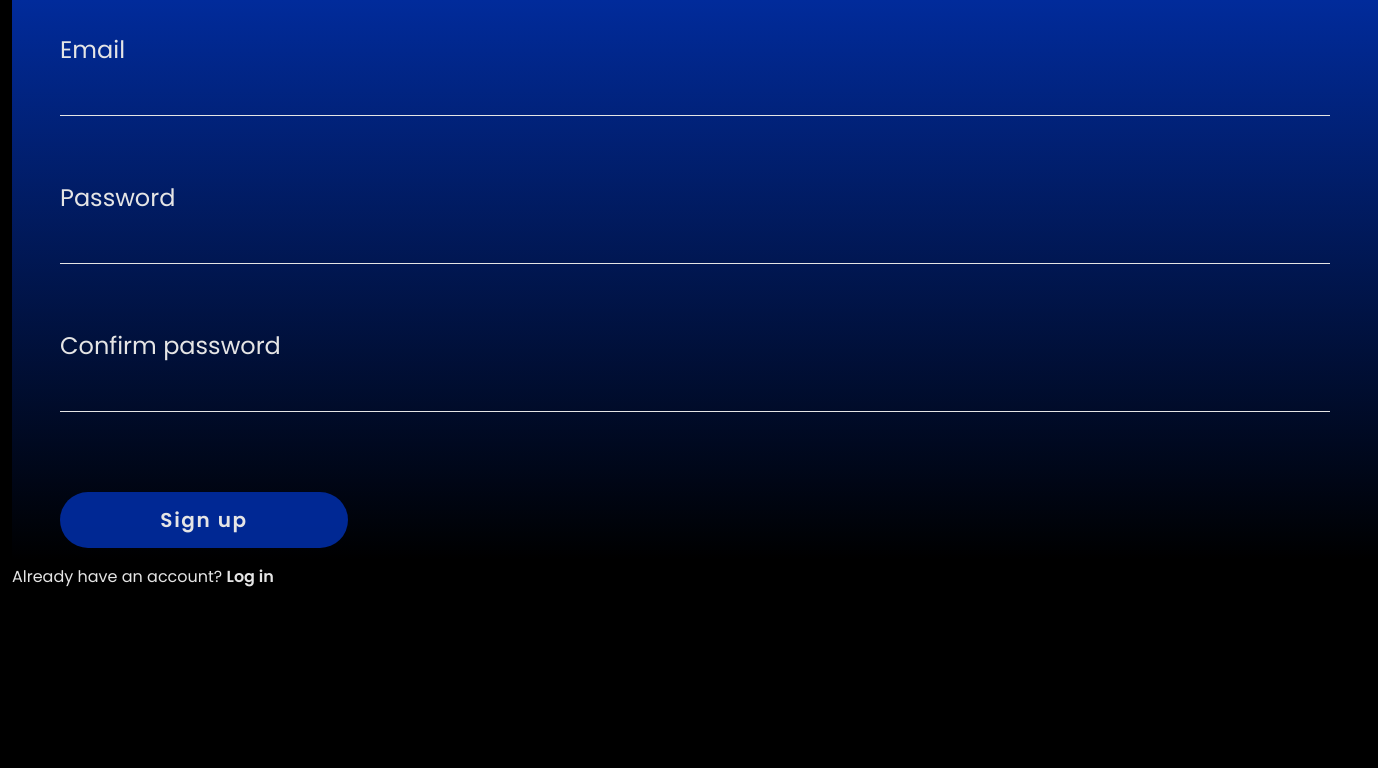
Test case: Given a register form, › when the user tries to register with a valid email and passwords, it should show a related message
The image size is (1378, 768).
Type "example2@email.com" into the field labelled "Email" at point(695, 100), box x1=60 y1=83 x2=1330 y2=116
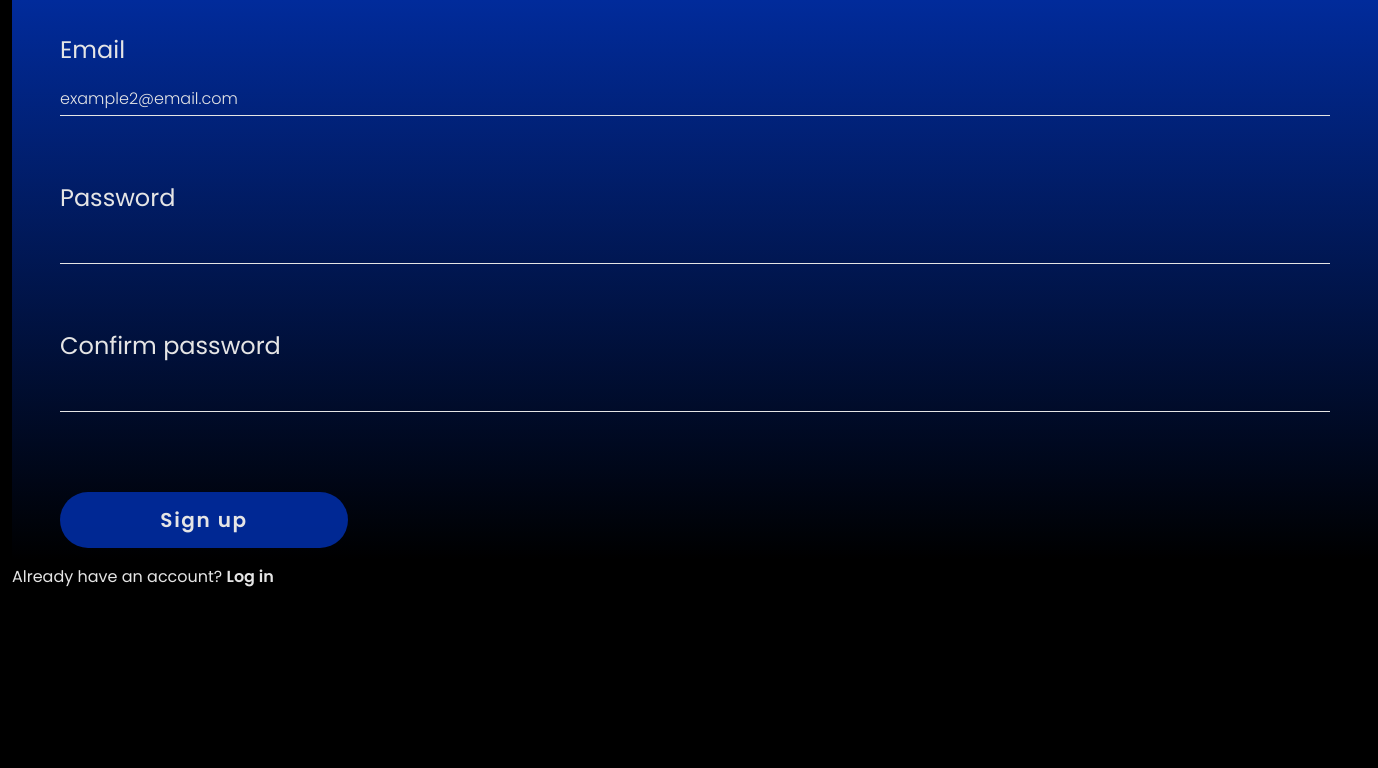
Type "password" into the password field labelled "Password" at point(695, 248), box x1=60 y1=231 x2=1330 y2=264
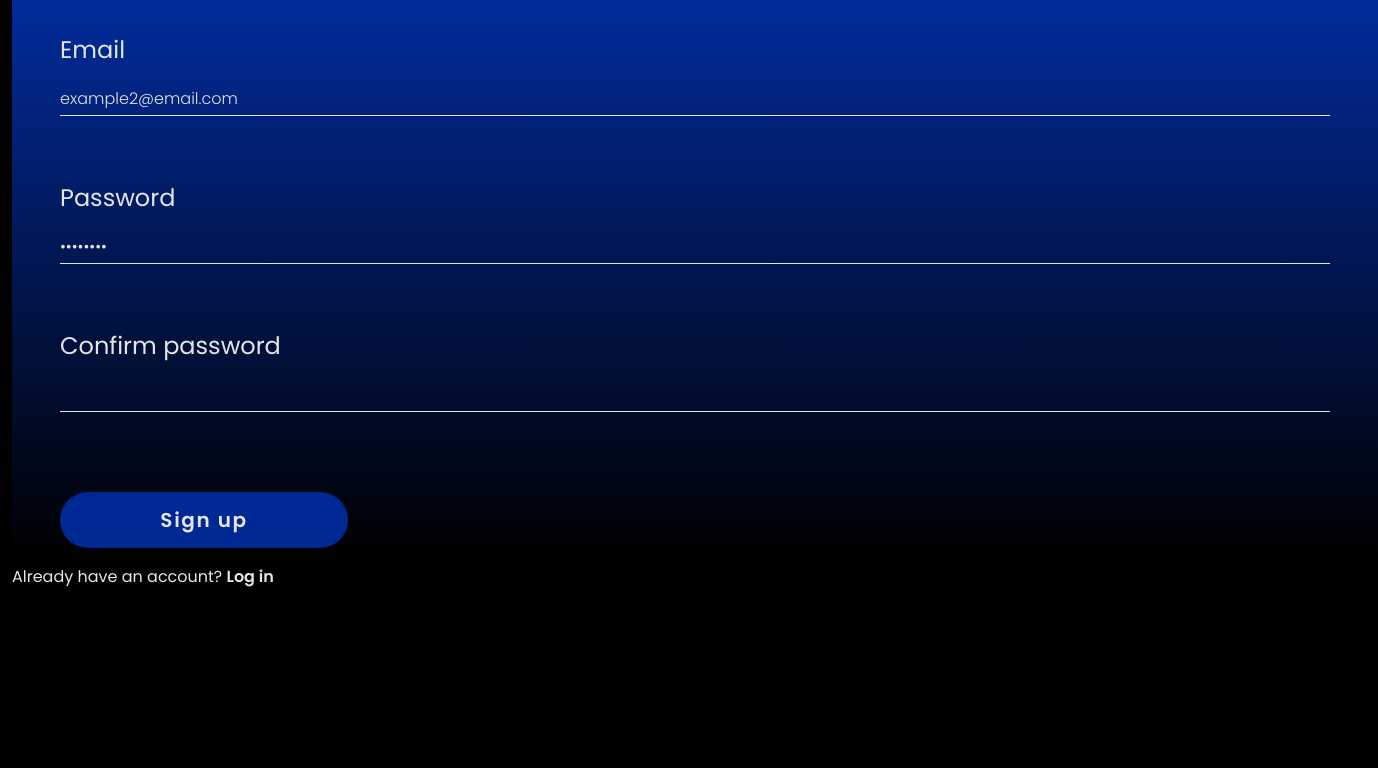
Type "password" into the password field labelled "Confirm password" at point(695, 396), box x1=60 y1=379 x2=1330 y2=412
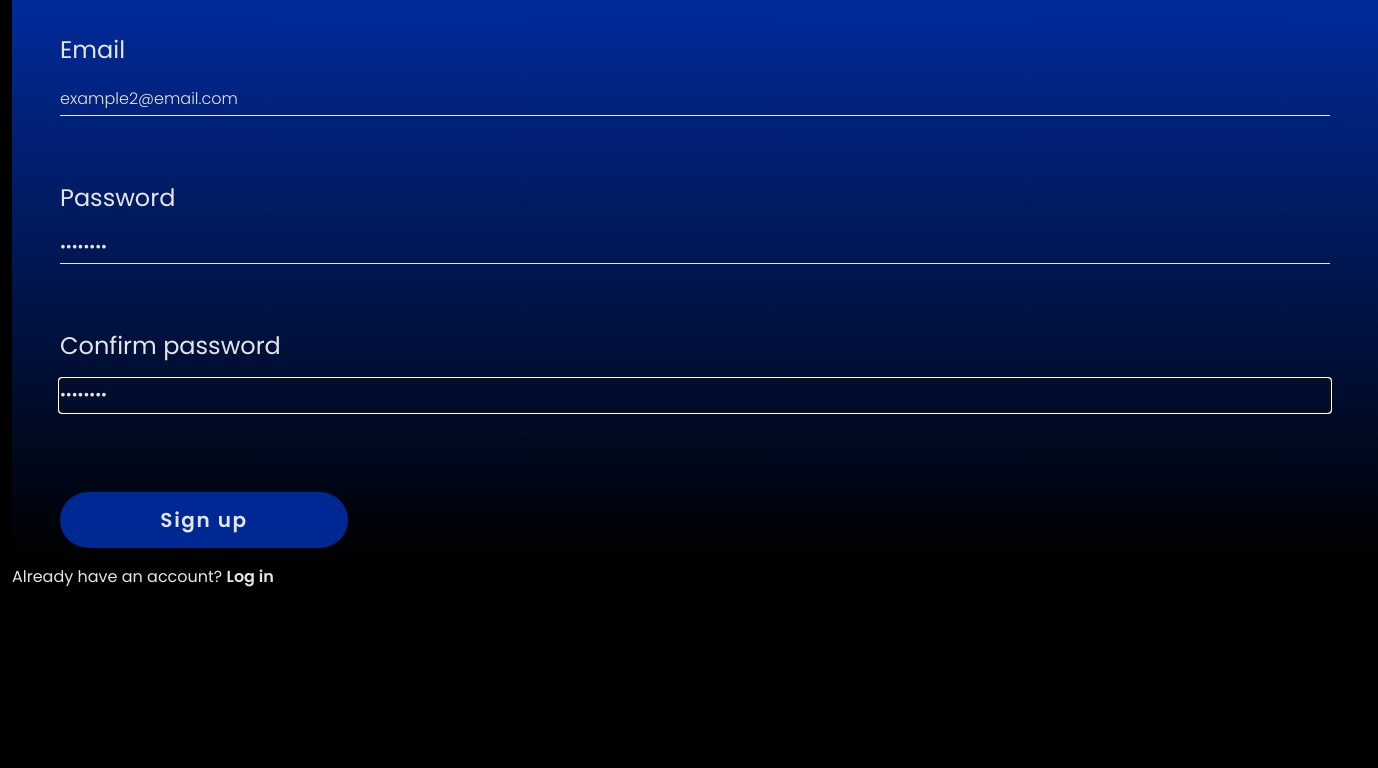
Click the button at point(204, 520), box x1=60 y1=492 x2=348 y2=548
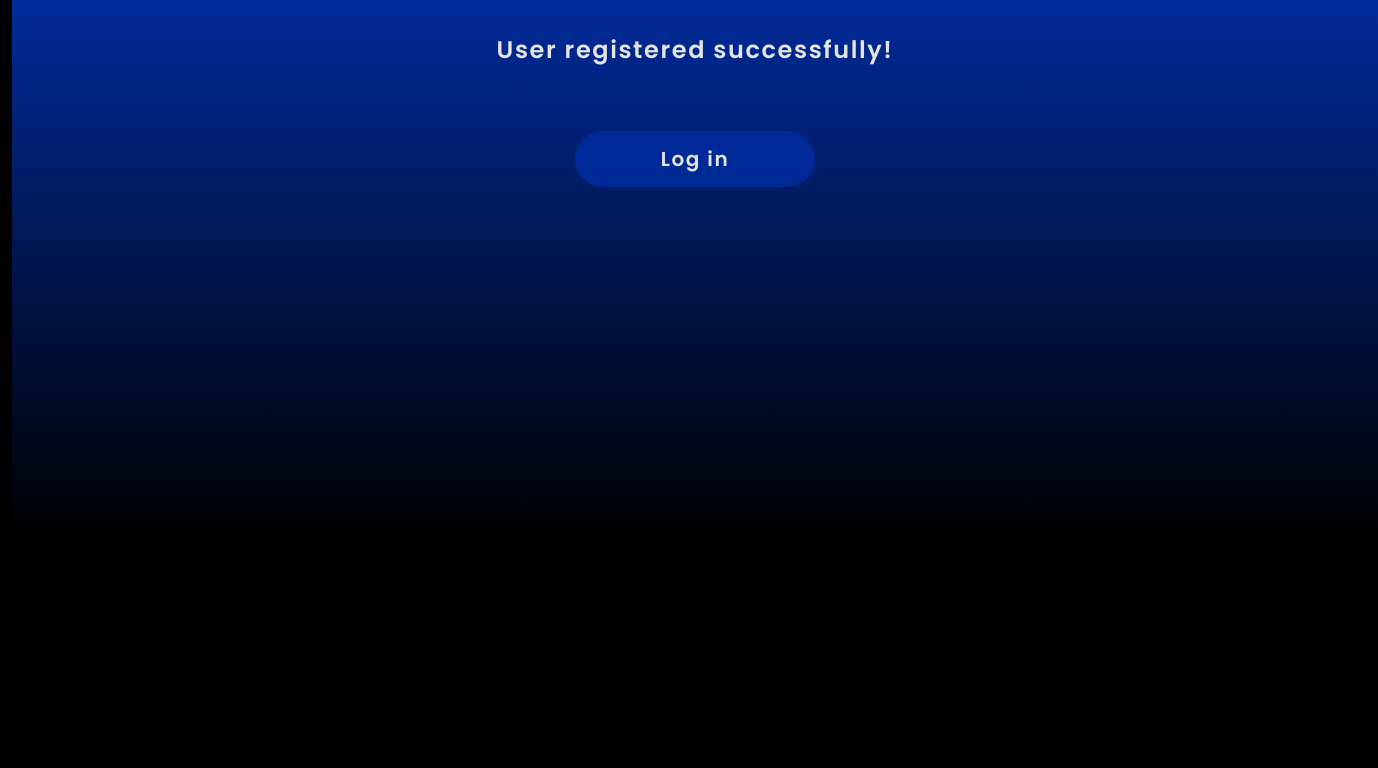
Result: the heading "User registered successfully!" is shown at x1=497 y1=32 x2=894 y2=67
